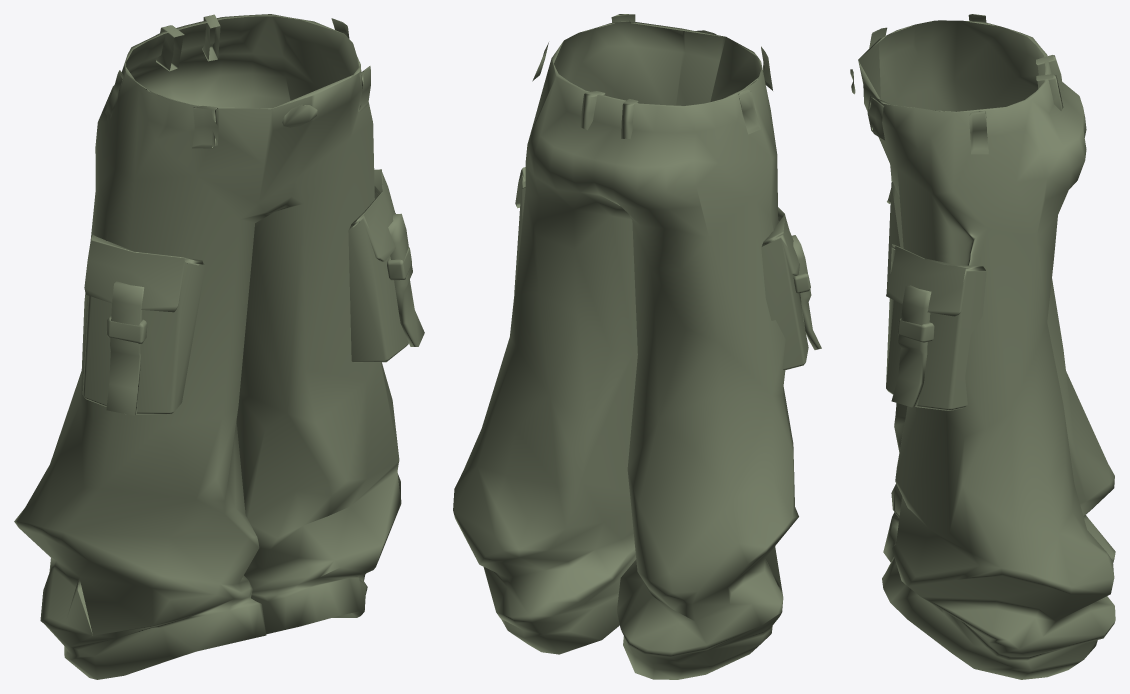
File: cargo-only.glb
3 renders of one model, left to right at view 1: azimuth 30°, elevation 25°; view 2: azimuth 150°, elevation 25°; view 3: azimuth 270°, elevation 25°, orthographic. The views are drawn at different scales.
Visible parts, largest first — view 1: Lowerwear_cargo; view 2: Lowerwear_cargo; view 3: Lowerwear_cargo.
Boxes of the visible parts, x1=… form: Lowerwear_cargo: x1=14, y1=14, x2=424, y2=679; Lowerwear_cargo: x1=453, y1=14, x2=821, y2=679; Lowerwear_cargo: x1=850, y1=14, x2=1115, y2=679.
Size of the model in its own units: 1.3 by 2.2 by 0.9275.
